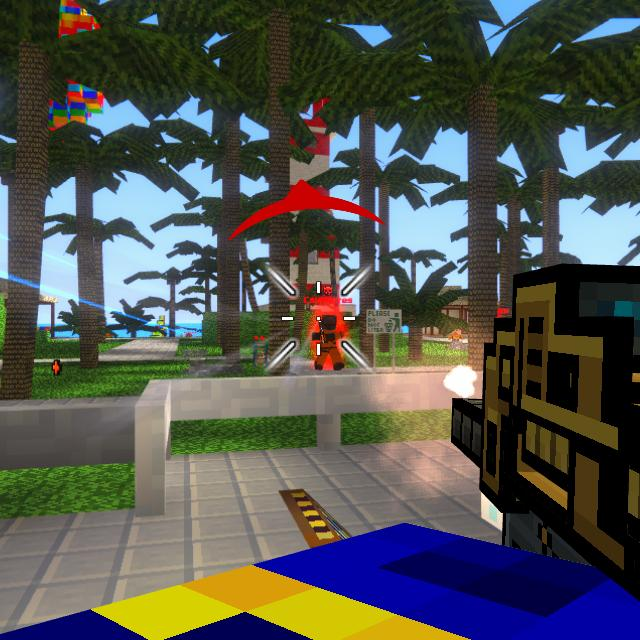Enemy: (311, 316, 344, 371), (256, 343, 264, 365)
